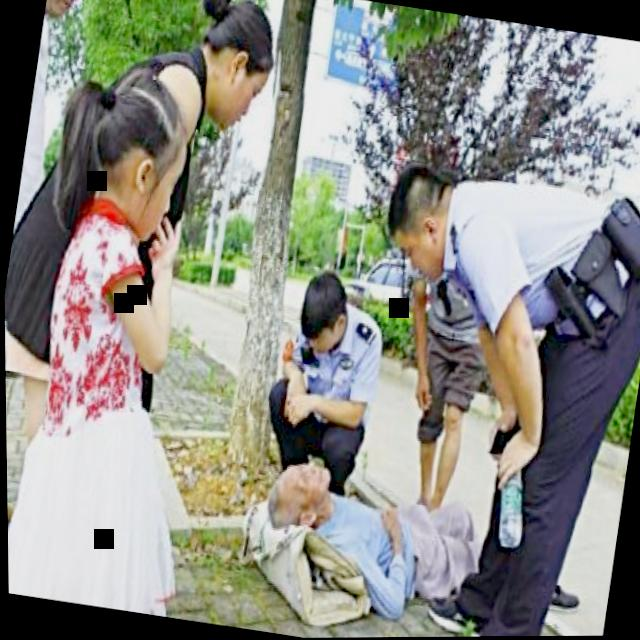Fall-Detected: (226, 427, 519, 639)
